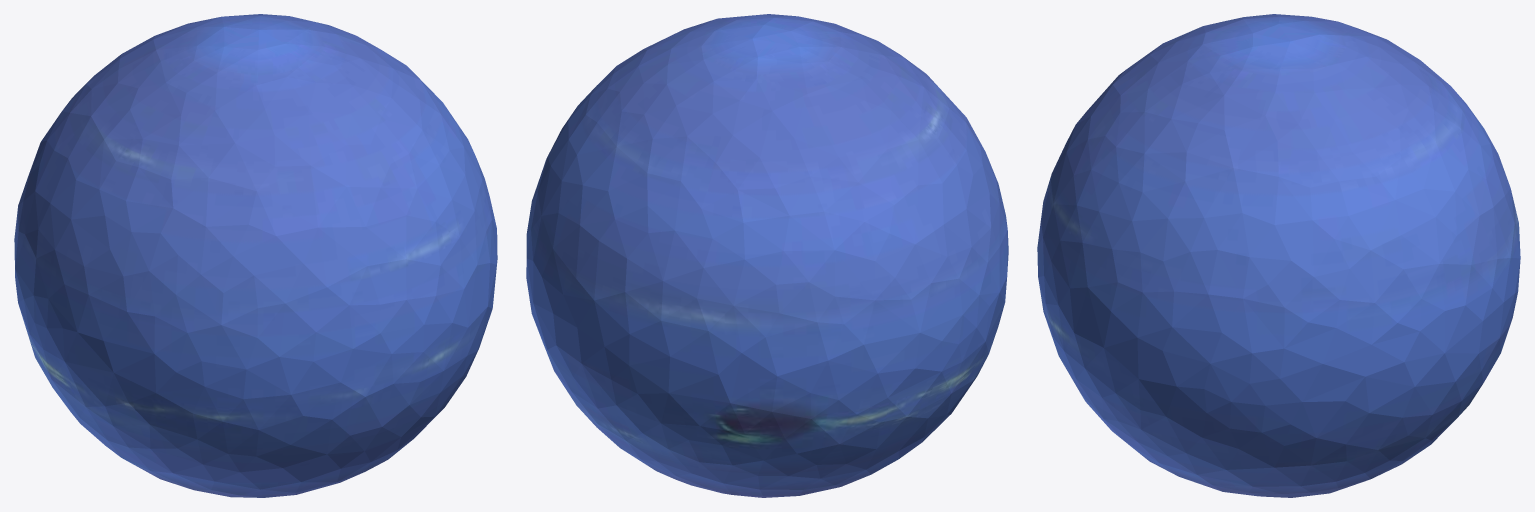
Rendered from Neptune.obj.
The picture shows the model from 3 angles, left to right: view 1: azimuth 30°, elevation 25°; view 2: azimuth 150°, elevation 25°; view 3: azimuth 270°, elevation 25°; orthographic projection.
Parts seen in each view (by area): view 1: Neptune_Globe.005; view 2: Neptune_Globe.005; view 3: Neptune_Globe.005.
Boxes of the visible parts, box(x1,y1,x2,y2) form: Neptune_Globe.005: box(14, 14, 497, 497); Neptune_Globe.005: box(526, 14, 1008, 497); Neptune_Globe.005: box(1037, 14, 1520, 497).
Size of the model in its own units: 97.35 by 97.37 by 97.35.
1 material, 1 textured.
